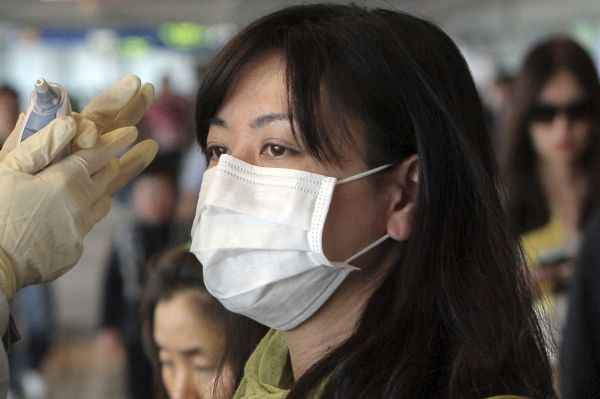mask: (193, 161, 361, 328)
